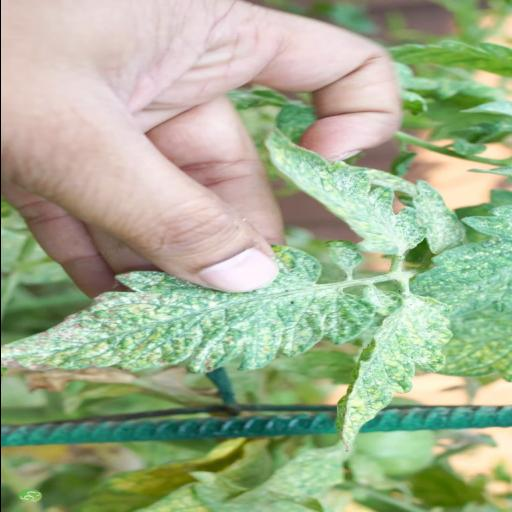Spider Mites: (0, 240, 370, 378), (263, 124, 433, 256), (332, 294, 460, 454), (407, 200, 512, 317), (414, 177, 466, 253)
